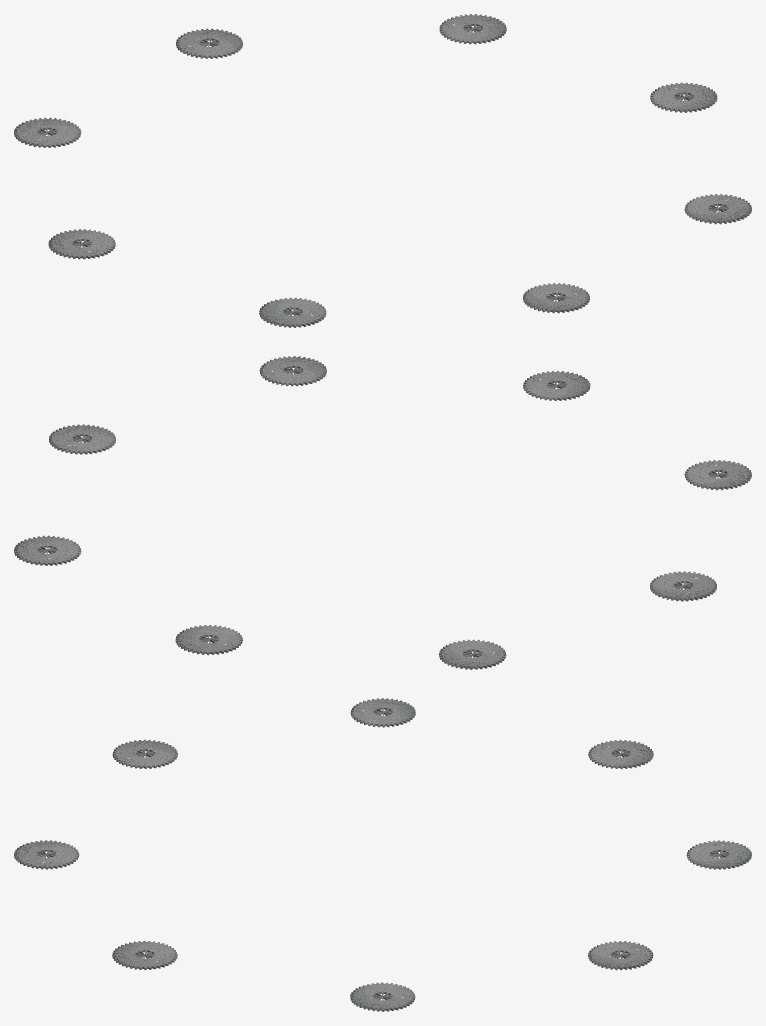
3 views of the same model, one above another, from view 1: azimuth 30°, elevation 25°; view 2: azimuth 150°, elevation 25°; view 3: azimuth 270°, elevation 25° (orthographic). The views are drawn at different scales.
Parts seen in each view (by area): view 1: 10_HZ; view 2: 10_HZ; view 3: 10_HZ.
Part boxes in pixels (x1,y1,x2,y2): 10_HZ: (14, 14, 751, 327); 10_HZ: (14, 356, 751, 669); 10_HZ: (14, 698, 751, 1011).
Size of the model in its own units: 7140 by 20 by 7140.
